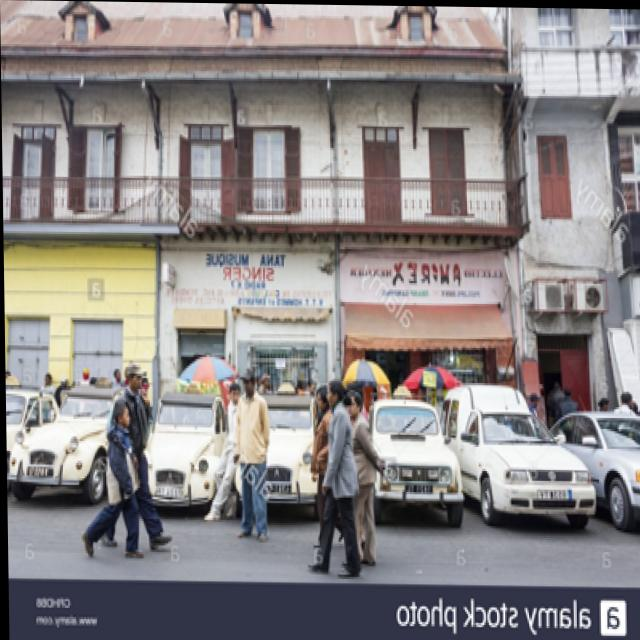licence: (154, 483, 183, 504), (532, 483, 570, 499), (402, 479, 433, 495), (26, 464, 51, 476)
